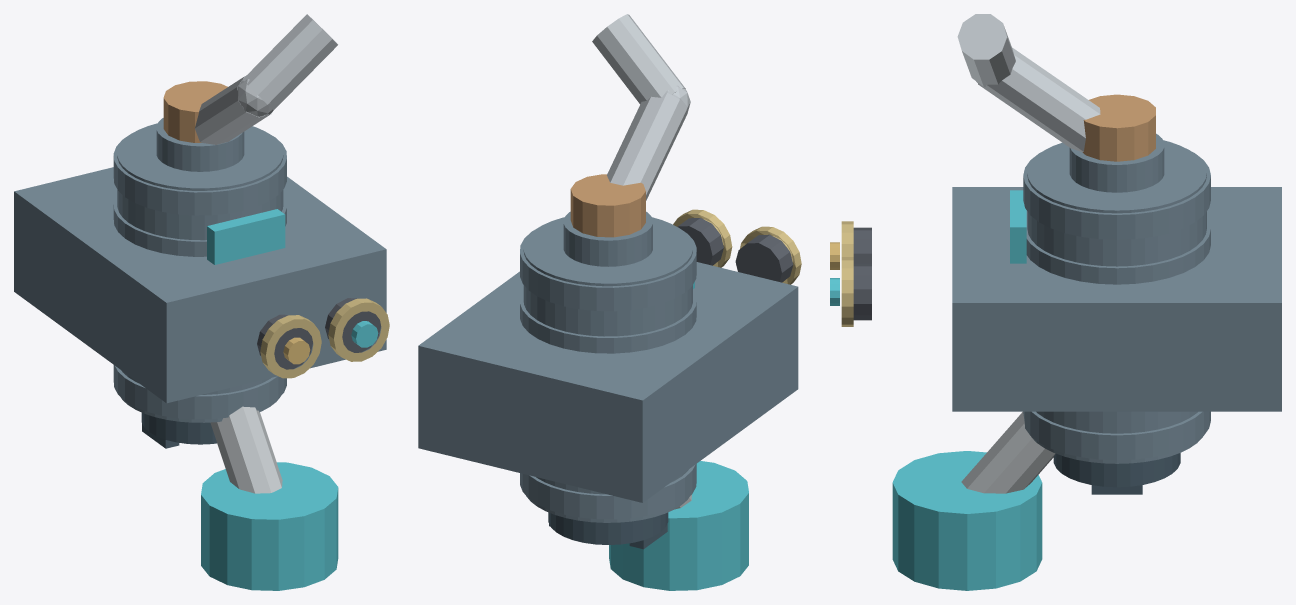
Rendered from 28_L82_NearFieldScannerZLift.glb.
3 views of the same model, side by side, from view 1: azimuth 30°, elevation 25°; view 2: azimuth 150°, elevation 25°; view 3: azimuth 270°, elevation 25° (orthographic). The views are drawn at different scales.
Parts seen in each view (by area): view 1: NearFieldScannerZLift_Node_0026, NearFieldScannerZLift_Node_0028, NearFieldScannerZLift_Node_0000, NearFieldScannerZLift_Node_0008, NearFieldScannerZLift_Node_0027, NearFieldScannerZLift_Node_0024, NearFieldScannerZLift_Node_0002, NearFieldScannerZLift_Node_0010, NearFieldScannerZLift_Node_0011, NearFieldScannerZLift_Node_0023, NearFieldScannerZLift_Node_0013, NearFieldScannerZLift_Node_0006 (+8 smaller); view 2: NearFieldScannerZLift_Node_0026, NearFieldScannerZLift_Node_0000, NearFieldScannerZLift_Node_0028, NearFieldScannerZLift_Node_0008, NearFieldScannerZLift_Node_0023, NearFieldScannerZLift_Node_0002, NearFieldScannerZLift_Node_0024, NearFieldScannerZLift_Node_0013, NearFieldScannerZLift_Node_0006, NearFieldScannerZLift_Node_0011, NearFieldScannerZLift_Node_0012, NearFieldScannerZLift_Node_0029 (+3 smaller); view 3: NearFieldScannerZLift_Node_0026, NearFieldScannerZLift_Node_0028, NearFieldScannerZLift_Node_0000, NearFieldScannerZLift_Node_0008, NearFieldScannerZLift_Node_0023, NearFieldScannerZLift_Node_0002, NearFieldScannerZLift_Node_0013, NearFieldScannerZLift_Node_0027, NearFieldScannerZLift_Node_0006, NearFieldScannerZLift_Node_0011, NearFieldScannerZLift_Node_0024, NearFieldScannerZLift_Node_0012 (+4 smaller).
Part boxes in pixels (bbox=[...]): NearFieldScannerZLift_Node_0026: bbox=[14, 167, 386, 403]; NearFieldScannerZLift_Node_0028: bbox=[201, 462, 338, 590]; NearFieldScannerZLift_Node_0000: bbox=[117, 123, 283, 422]; NearFieldScannerZLift_Node_0008: bbox=[113, 133, 286, 215]; NearFieldScannerZLift_Node_0027: bbox=[210, 406, 282, 493]; NearFieldScannerZLift_Node_0024: bbox=[242, 14, 337, 110]; NearFieldScannerZLift_Node_0002: bbox=[113, 365, 286, 419]; NearFieldScannerZLift_Node_0010: bbox=[207, 209, 285, 264]; NearFieldScannerZLift_Node_0011: bbox=[156, 118, 244, 171]; NearFieldScannerZLift_Node_0023: bbox=[195, 76, 272, 144]; NearFieldScannerZLift_Node_0013: bbox=[163, 81, 227, 142]; NearFieldScannerZLift_Node_0006: bbox=[113, 195, 286, 256]; NearFieldScannerZLift_Node_0026: bbox=[418, 262, 798, 502]; NearFieldScannerZLift_Node_0000: bbox=[523, 217, 692, 522]; NearFieldScannerZLift_Node_0028: bbox=[609, 461, 748, 590]; NearFieldScannerZLift_Node_0008: bbox=[520, 227, 696, 311]; NearFieldScannerZLift_Node_0023: bbox=[607, 92, 687, 200]; NearFieldScannerZLift_Node_0002: bbox=[520, 464, 696, 519]; NearFieldScannerZLift_Node_0024: bbox=[592, 14, 685, 104]; NearFieldScannerZLift_Node_0013: bbox=[570, 174, 645, 237]; NearFieldScannerZLift_Node_0006: bbox=[520, 290, 696, 353]; NearFieldScannerZLift_Node_0011: bbox=[563, 211, 652, 266]; NearFieldScannerZLift_Node_0012: bbox=[548, 512, 668, 544]; NearFieldScannerZLift_Node_0029: bbox=[735, 234, 793, 282]; NearFieldScannerZLift_Node_0026: bbox=[952, 187, 1281, 411]; NearFieldScannerZLift_Node_0028: bbox=[892, 451, 1042, 590]; NearFieldScannerZLift_Node_0000: bbox=[1027, 140, 1206, 463]; NearFieldScannerZLift_Node_0008: bbox=[1023, 152, 1210, 239]; NearFieldScannerZLift_Node_0023: bbox=[978, 47, 1100, 152]; NearFieldScannerZLift_Node_0002: bbox=[1023, 411, 1210, 460]; NearFieldScannerZLift_Node_0013: bbox=[1082, 94, 1155, 161]; NearFieldScannerZLift_Node_0027: bbox=[961, 412, 1055, 493]; NearFieldScannerZLift_Node_0006: bbox=[1026, 218, 1210, 284]; NearFieldScannerZLift_Node_0011: bbox=[1069, 133, 1164, 192]; NearFieldScannerZLift_Node_0024: bbox=[957, 14, 1015, 86]; NearFieldScannerZLift_Node_0012: bbox=[1053, 453, 1180, 487].
Bounding box in the file's own units: 0.55 × 1.26 × 0.905.
